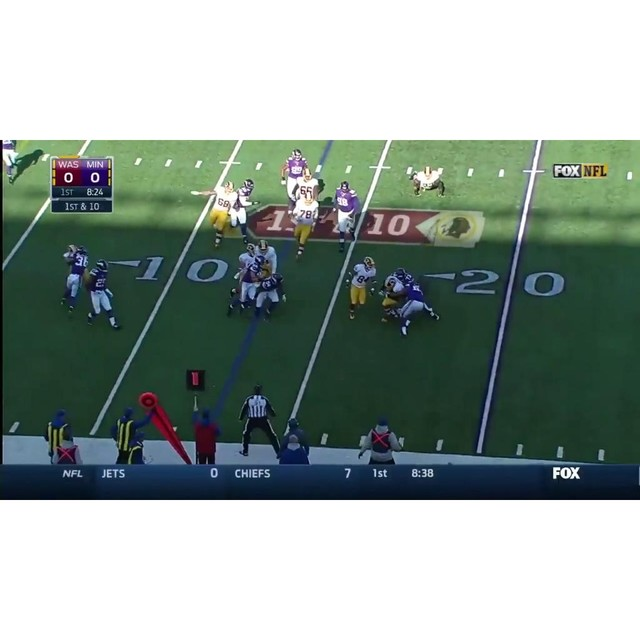american-football-player: (227, 251, 265, 322), (397, 273, 438, 335), (85, 259, 120, 330), (331, 180, 360, 252), (228, 179, 259, 246), (289, 194, 320, 261), (346, 257, 378, 321), (60, 246, 89, 315), (207, 182, 236, 248), (281, 148, 309, 212), (253, 271, 285, 322), (406, 166, 446, 198), (255, 239, 278, 277), (1, 140, 20, 184)
referee: (237, 383, 281, 459)
